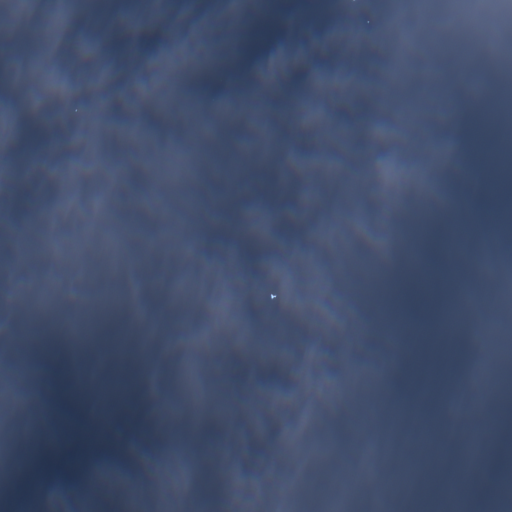Iceberg: (271, 294, 276, 299), (367, 21, 369, 22), (75, 109, 76, 111)
